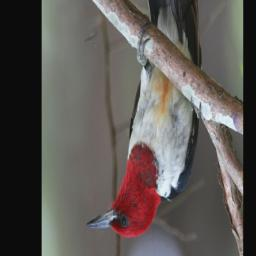Woodpecker: (86, 0, 202, 240)
